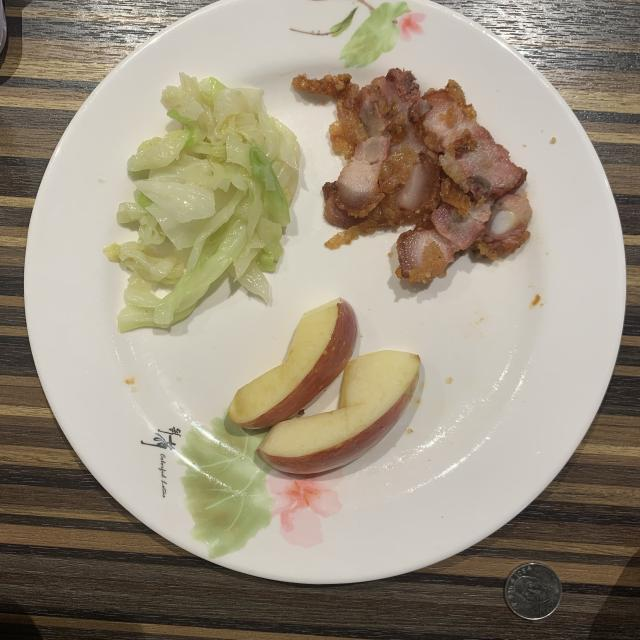apple -sliced-: (229, 299, 420, 474)
cabbage: (110, 74, 300, 331)
coin: (505, 562, 562, 620)
red grilled pork: (292, 69, 531, 282)
